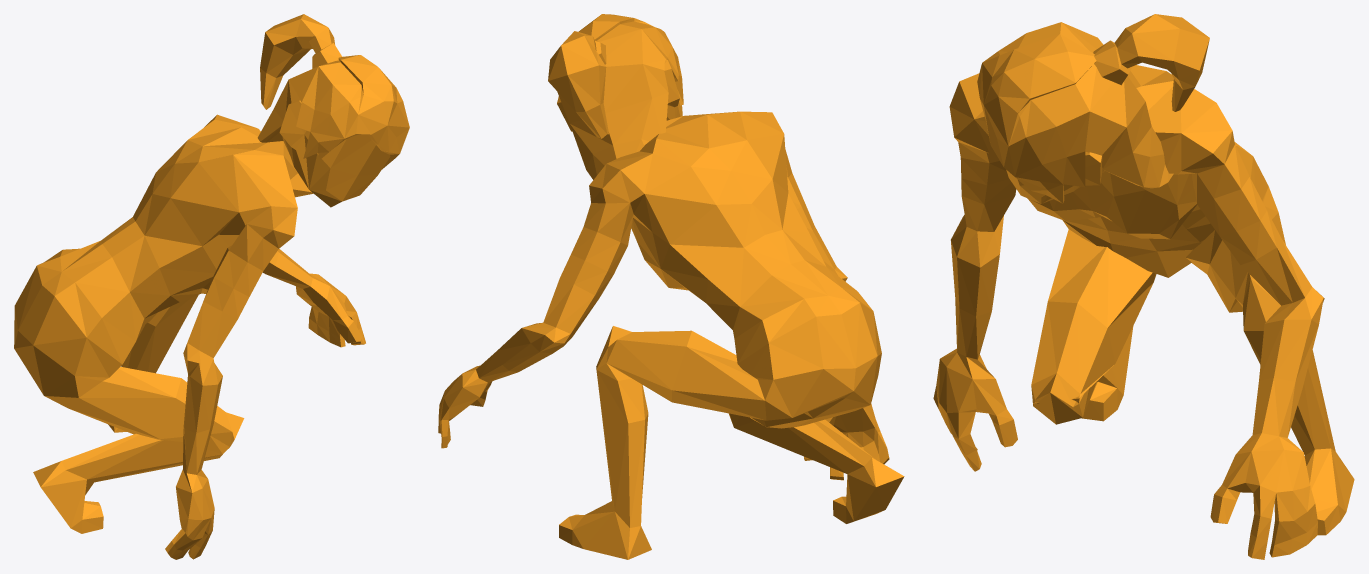
Rendered from SM_Pawn_Cover_Female_01.fbx.
3 renders of one model, left to right at view 1: azimuth 30°, elevation 25°; view 2: azimuth 150°, elevation 25°; view 3: azimuth 270°, elevation 25°, orthographic. The views are drawn at different scales.
Parts seen in each view (by area): view 1: SM_Pawn_Cover_Female_01; view 2: SM_Pawn_Cover_Female_01; view 3: SM_Pawn_Cover_Female_01.
Part boxes in pixels (x1,y1,x2,y2): SM_Pawn_Cover_Female_01: (14, 14, 409, 559); SM_Pawn_Cover_Female_01: (438, 14, 904, 559); SM_Pawn_Cover_Female_01: (933, 14, 1354, 559).
Size of the model in its own units: 100 by 109 by 73.86.
